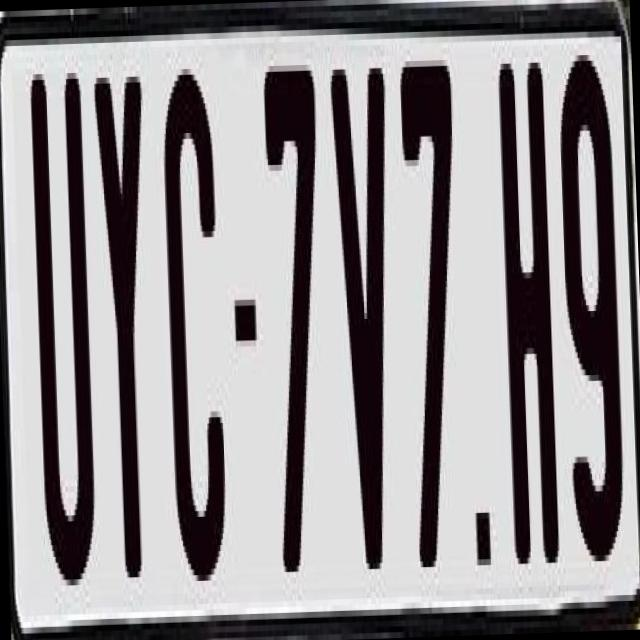7: (261, 64, 336, 602), (395, 59, 462, 561)
9: (552, 41, 624, 568)
C: (159, 61, 233, 600)
H: (496, 44, 560, 546)
U: (29, 66, 104, 604)
V: (328, 50, 399, 552)
Y: (90, 76, 158, 607)
